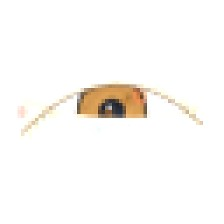foreign_body_visible: (126, 84, 157, 108)
